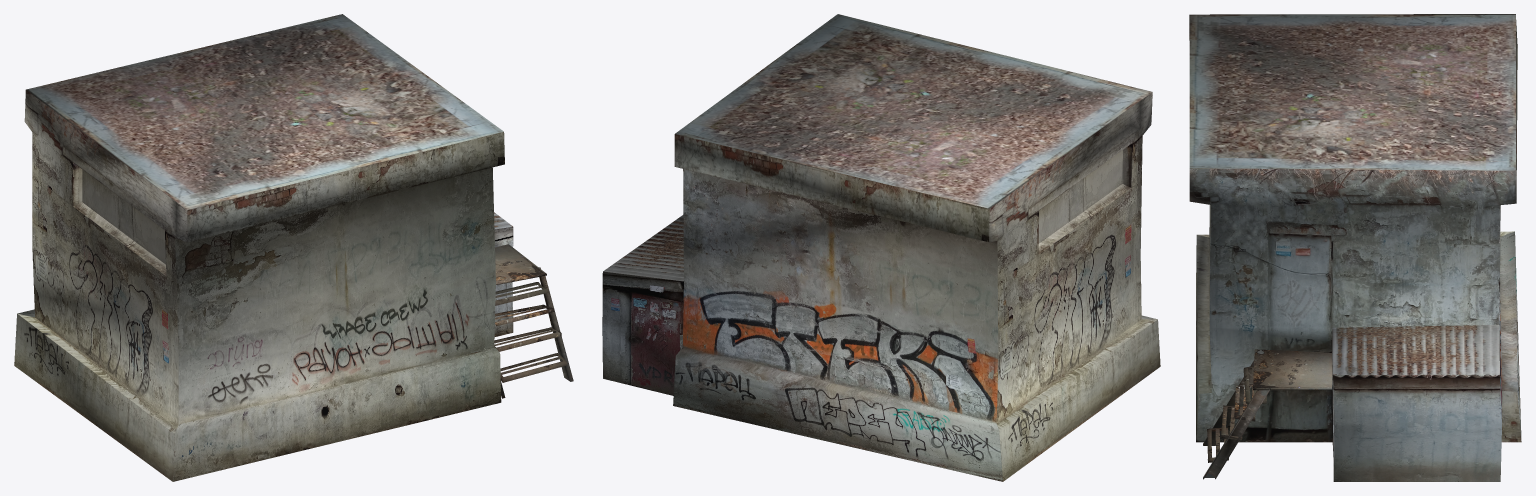
The model's file is sketchy.obj.
The picture shows the model from 3 angles, left to right: view 1: azimuth 30°, elevation 25°; view 2: azimuth 150°, elevation 25°; view 3: azimuth 270°, elevation 25°; orthographic projection.
Visible parts, largest first — view 1: EtekiBox; view 2: EtekiBox; view 3: EtekiBox.
Part boxes in pixels (x1,y1,x2,y2): EtekiBox: (14,14,573,481); EtekiBox: (602,14,1160,481); EtekiBox: (1189,14,1521,481).
Bounding box in the file's own units: 24.82 × 15.82 × 17.38.
Materials: 1 (1 with a texture image).
